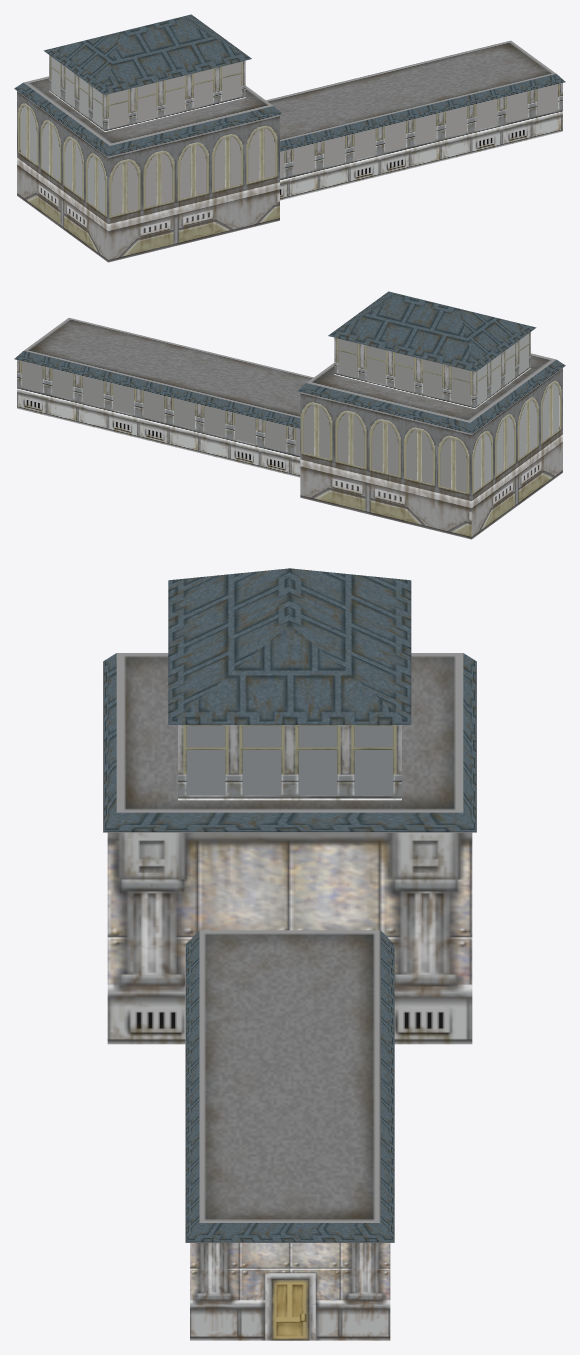
File: s_main_leftwing.glb
The picture shows the model from 3 angles, top to bottom: view 1: azimuth 30°, elevation 25°; view 2: azimuth 150°, elevation 25°; view 3: azimuth 270°, elevation 25°; orthographic projection. The views are drawn at different scales.
Visible parts, largest first — view 1: S_HC_LeftwingA, LitWin_S_Main_Leftwing; view 2: S_HC_LeftwingA, LitWin_S_Main_Leftwing; view 3: S_HC_LeftwingA, LitWin_S_Main_Leftwing.
Boxes of the visible parts, x1,y1,x2,y2 form: S_HC_LeftwingA: (14, 14, 565, 262); LitWin_S_Main_Leftwing: (20, 56, 557, 215); S_HC_LeftwingA: (14, 291, 565, 539); LitWin_S_Main_Leftwing: (22, 333, 559, 492); S_HC_LeftwingA: (103, 568, 476, 1340); LitWin_S_Main_Leftwing: (186, 726, 392, 795).
Size of the model in its own units: 43.99 by 16.03 by 14.86.
5 materials, 5 textured.
